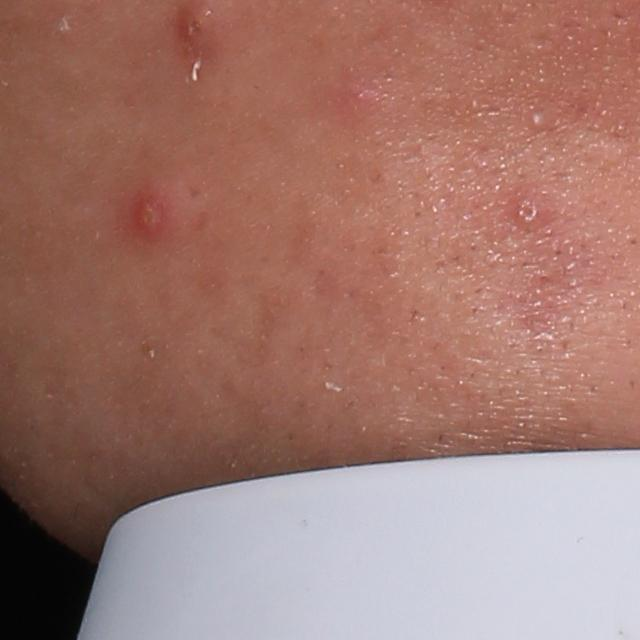pustule: (122, 183, 191, 250), (525, 103, 553, 135)
